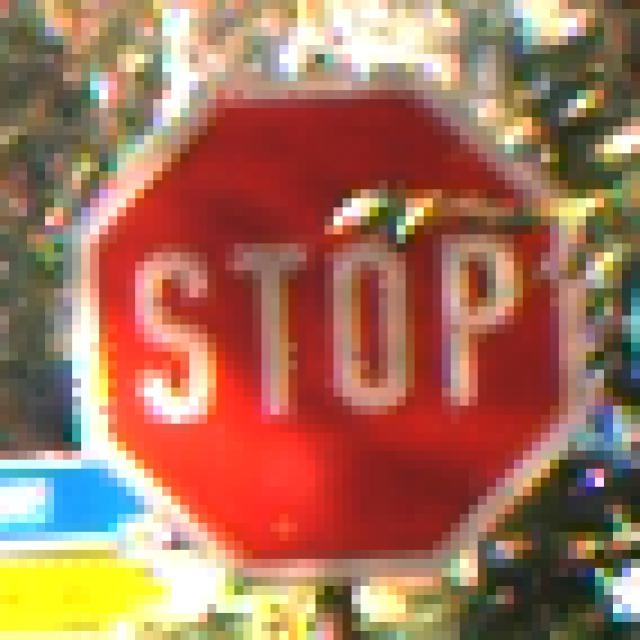STOP: (64, 55, 587, 587)
